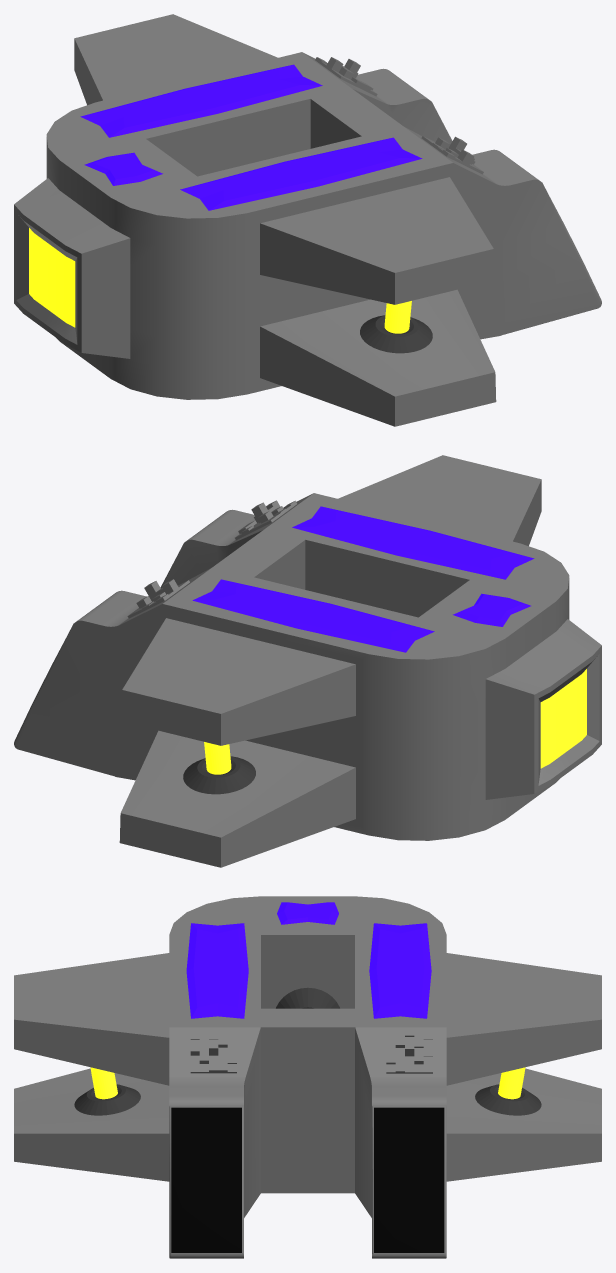
Rendered from AlienShip2.fbx.
The picture shows the model from 3 angles, top to bottom: view 1: azimuth 30°, elevation 25°; view 2: azimuth 150°, elevation 25°; view 3: azimuth 270°, elevation 25°; orthographic projection. The views are drawn at different scales.
Parts seen in each view (by area): view 1: Roundcube.001, Cube.007, Cube.006, Cylinder.002, Cube.009, Cube.004, Cube.003; view 2: Roundcube.001, Cube.006, Cube.007, Cylinder.002, Cube.009, Cube.004, Cube.003; view 3: Roundcube.001, Cube.007, Cube.006, Cylinder.002, Cube.003, Cube.004, Cube.009, Cylinder.
Boxes of the visible parts, left/top/right/bottom form: Roundcube.001: left=14, top=14, right=601, bottom=426; Cube.007: left=80, top=64, right=322, bottom=137; Cube.006: left=180, top=137, right=422, bottom=210; Cylinder.002: left=360, top=301, right=432, bottom=353; Cube.009: left=84, top=152, right=162, bottom=185; Cube.004: left=421, top=136, right=483, bottom=174; Cube.003: left=315, top=57, right=377, bottom=96; Roundcube.001: left=14, top=455, right=601, bottom=867; Cube.006: left=292, top=506, right=534, bottom=579; Cube.007: left=192, top=579, right=434, bottom=652; Cylinder.002: left=183, top=742, right=255, bottom=794; Cube.009: left=453, top=593, right=530, bottom=626; Cube.004: left=235, top=500, right=296, bottom=540; Cube.003: left=127, top=579, right=189, bottom=618; Roundcube.001: left=14, top=896, right=601, bottom=1258; Cube.007: left=369, top=923, right=431, bottom=1018; Cube.006: left=186, top=923, right=248, bottom=1018; Cylinder.002: left=74, top=1067, right=541, bottom=1115; Cube.003: left=386, top=1027, right=432, bottom=1073; Cube.004: left=190, top=1031, right=236, bottom=1073; Cube.009: left=277, top=902, right=338, bottom=924; Cylinder: left=276, top=987, right=339, bottom=1008.
Size of the model in its own units: 642 by 241 by 739.
